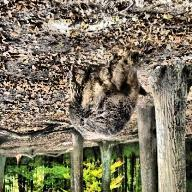boar: (42, 52, 140, 158)
